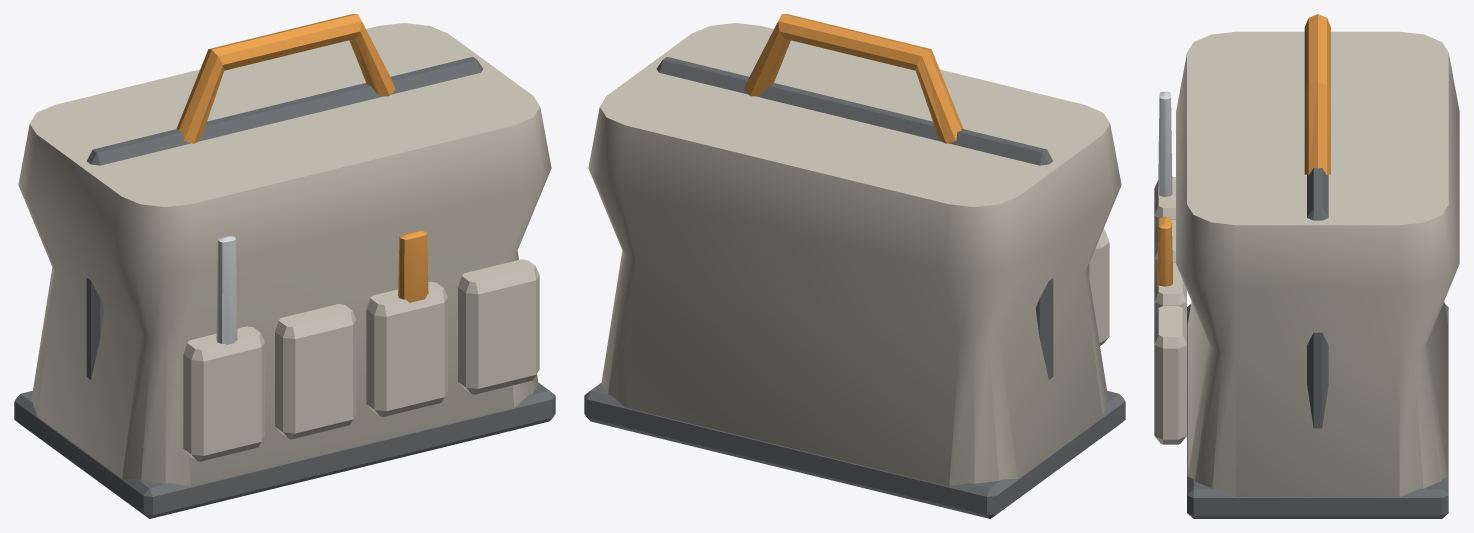
The picture shows the model from 3 angles, left to right: view 1: azimuth 30°, elevation 25°; view 2: azimuth 150°, elevation 25°; view 3: azimuth 270°, elevation 25°; orthographic projection. The views are drawn at different scales.
Visible parts, largest first — view 1: tool-bag; view 2: tool-bag; view 3: tool-bag.
Part boxes in pixels (<box>): tool-bag: <box>14,14,555,518</box>; tool-bag: <box>584,14,1125,518</box>; tool-bag: <box>1154,14,1459,518</box>.
Bounding box in the file's own units: 0.44 × 0.3811 × 0.28.
